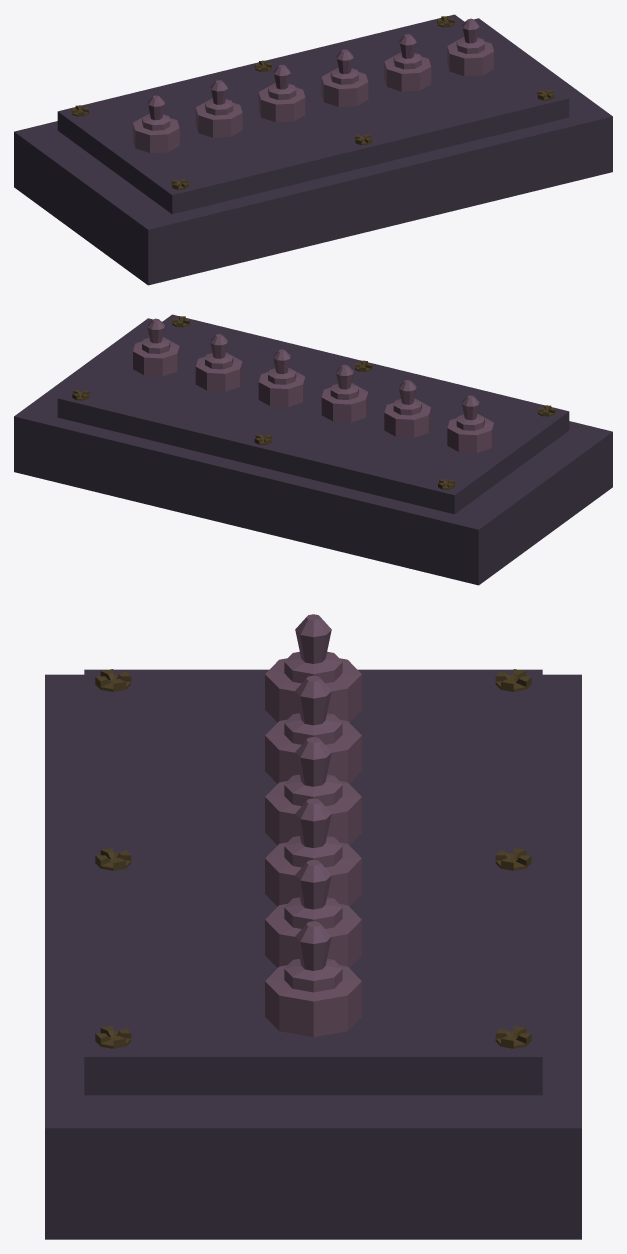
File: Switch board.fbx
3 renders of one model, top to bottom at view 1: azimuth 30°, elevation 25°; view 2: azimuth 150°, elevation 25°; view 3: azimuth 270°, elevation 25°, orthographic. The views are drawn at different scales.
Visible parts, largest first — view 1: Plane, Cylinder; view 2: Plane, Cylinder; view 3: Plane, Cylinder, Cylinder.001, Cylinder.002, Cylinder.003.
Boxes of the visible parts, x1,y1,x2,y2 form: Plane: (14,14,612,285); Cylinder: (133,18,493,152); Plane: (14,314,612,585); Cylinder: (133,318,493,452); Plane: (45,669,581,1239); Cylinder: (265,614,361,1037); Cylinder.001: (95,848,531,870); Cylinder.002: (95,1026,531,1048); Cylinder.003: (95,669,531,691).
Size of the model in its own units: 200 by 49.79 by 100.
